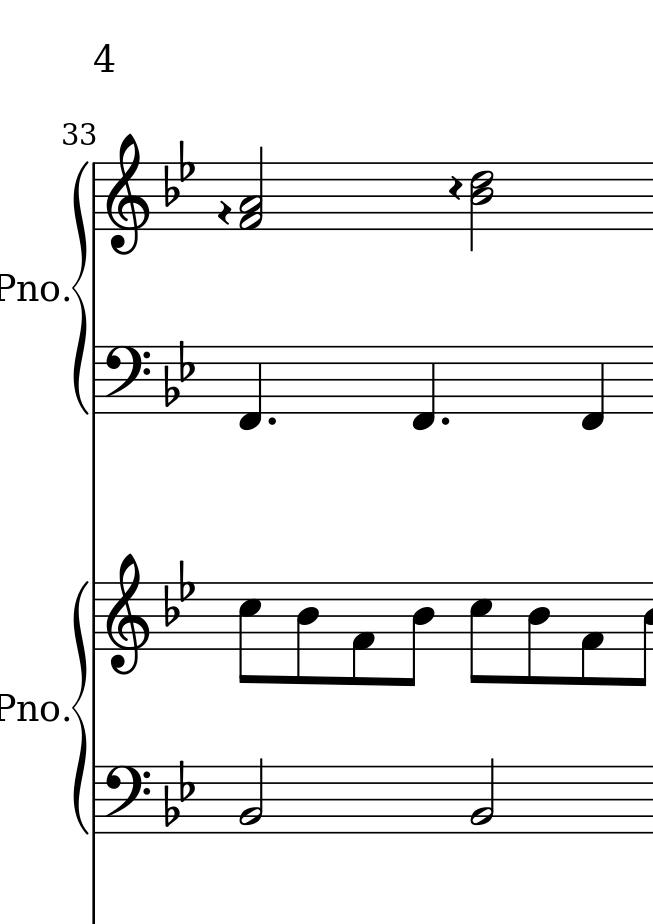2_1_3: (238, 146, 265, 231)
2_2: (470, 757, 496, 833), (239, 757, 265, 832)
2_4_6: (469, 161, 494, 253)
3: (79, 120, 97, 147), (61, 121, 78, 146)
4: (93, 41, 116, 73)
4_-1: (580, 343, 606, 432)
8_-1: (237, 342, 264, 432), (411, 342, 437, 433)
8_1: (350, 580, 375, 689), (580, 587, 605, 681)
8_4: (406, 581, 436, 688), (295, 582, 320, 687), (526, 582, 551, 687)
8_5: (467, 579, 494, 687), (236, 579, 262, 686)
B_F: (161, 557, 197, 626), (163, 337, 195, 409), (163, 758, 195, 828), (162, 140, 196, 205)
Fclef: (104, 343, 150, 414), (103, 765, 151, 828)
Gclef: (105, 132, 149, 256), (104, 553, 149, 674)
Pno: (1, 272, 62, 307), (1, 692, 64, 725)
Single_barline: (88, 162, 102, 231), (88, 767, 102, 831), (89, 583, 102, 649), (89, 347, 102, 412)
dot: (265, 414, 279, 426), (438, 414, 451, 426)
